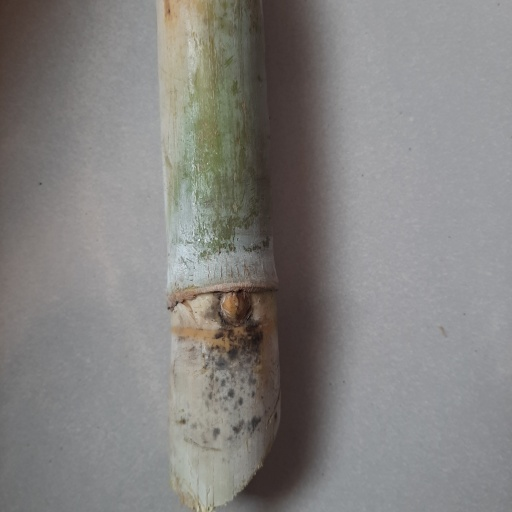Bud: (215, 290, 254, 328)
